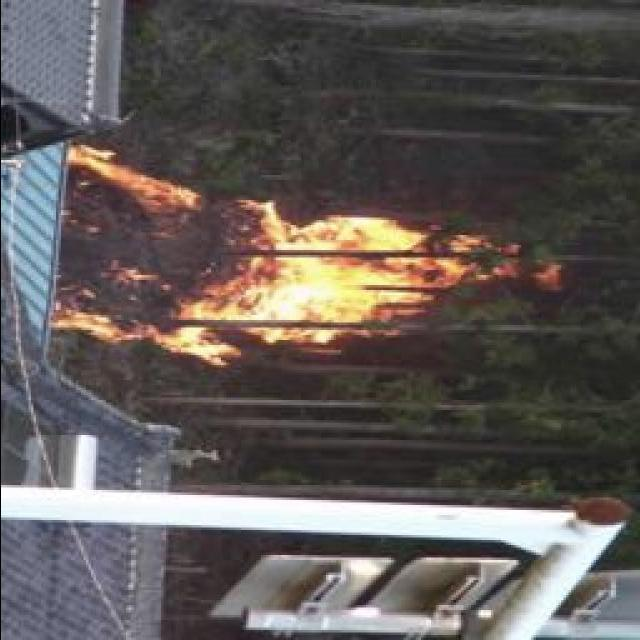Fire: (62, 160, 529, 362)
